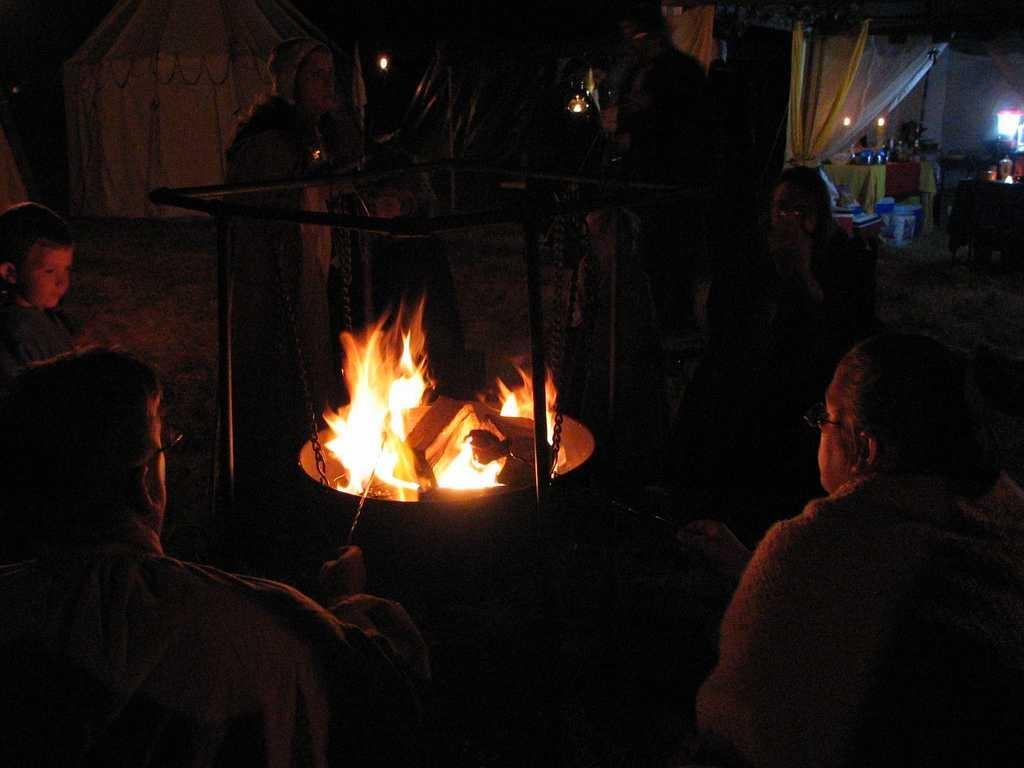fire: (348, 358, 396, 480), (444, 450, 486, 490)
